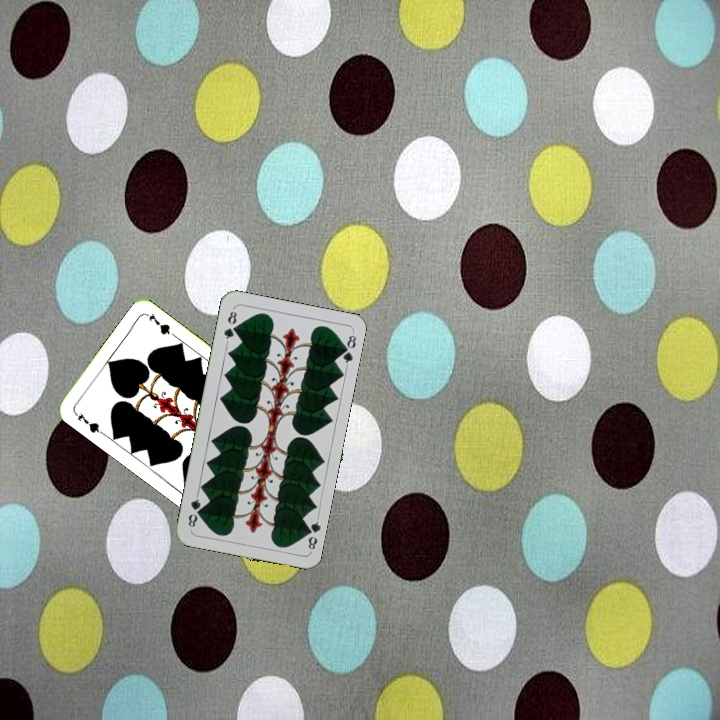G7: (71, 408, 106, 437)
G8: (300, 514, 323, 554), (219, 305, 239, 345)
